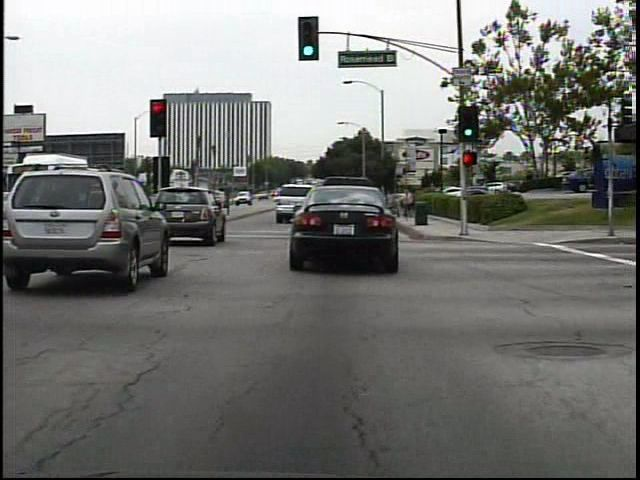person: (398, 187, 418, 222)
